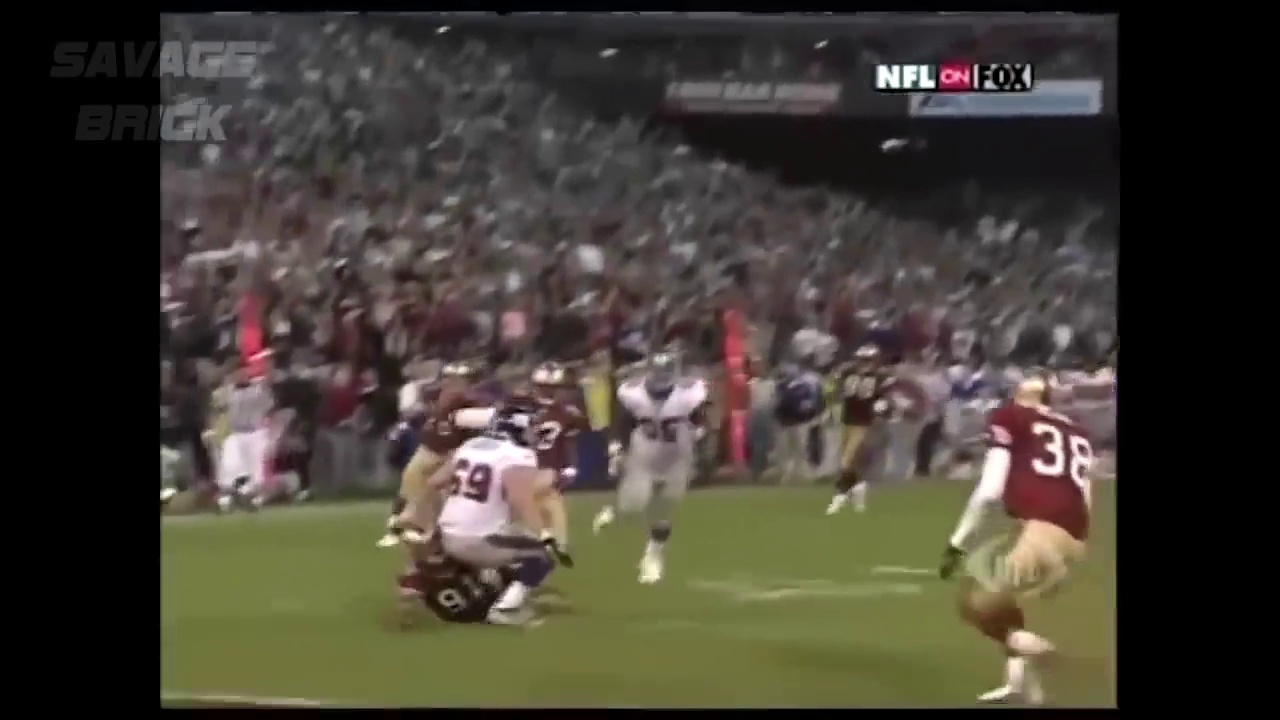interference: (416, 533, 505, 600)
